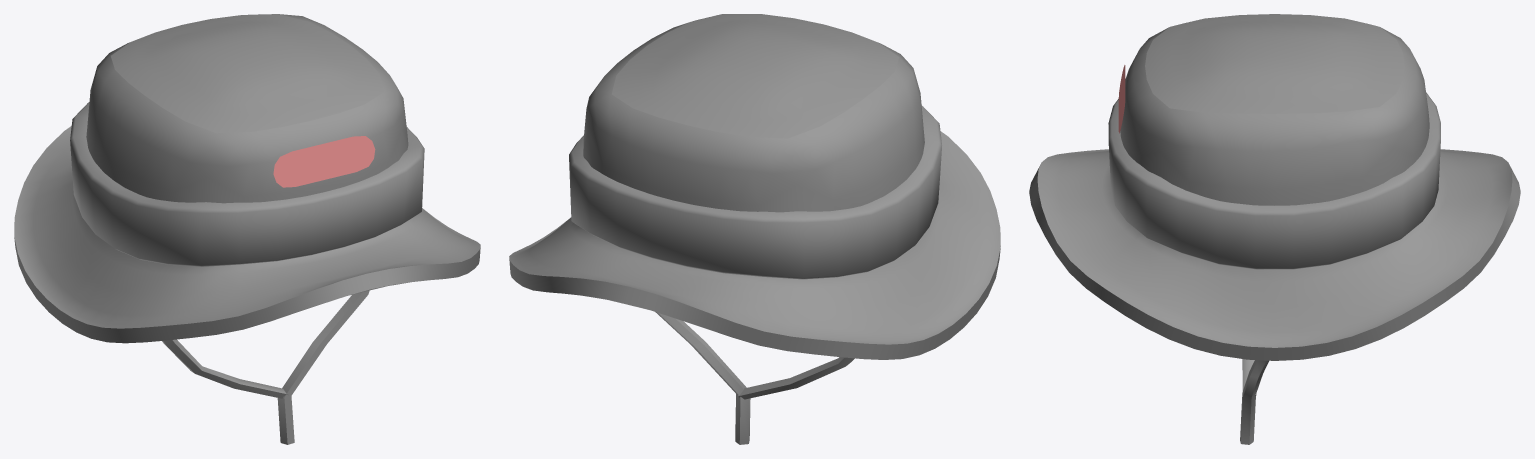
File: Fishing.fbx
3 views of the same model, side by side, from view 1: azimuth 30°, elevation 25°; view 2: azimuth 150°, elevation 25°; view 3: azimuth 270°, elevation 25° (orthographic). The views are drawn at different scales.
Parts seen in each view (by area): view 1: SM_Hat_Fishing_test; view 2: SM_Hat_Fishing_test; view 3: SM_Hat_Fishing_test.
Part boxes in pixels (x1,y1,x2,y2): SM_Hat_Fishing_test: (14, 14, 480, 444); SM_Hat_Fishing_test: (509, 14, 1000, 444); SM_Hat_Fishing_test: (1029, 14, 1520, 444).
Size of the model in its own units: 214 by 210 by 244.
